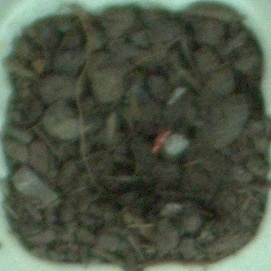pepper seed: (61, 48, 235, 205)
